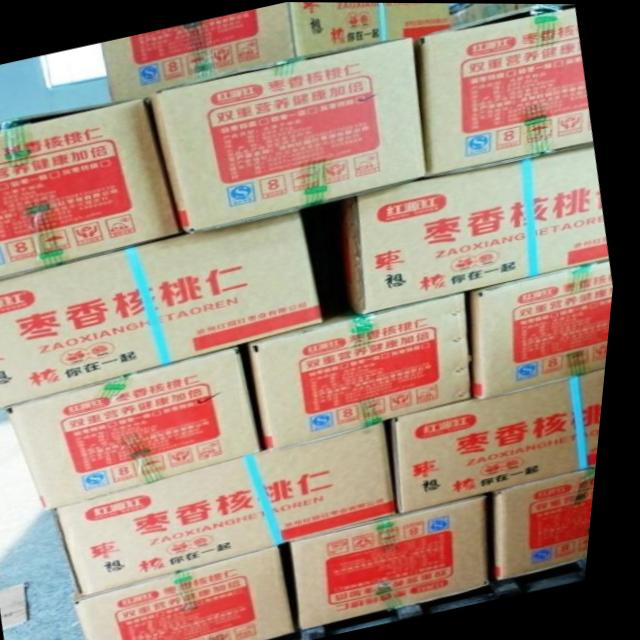box: (0, 210, 329, 411), (60, 420, 405, 596), (145, 36, 429, 235), (329, 146, 612, 315), (16, 346, 269, 511), (100, 2, 453, 103), (255, 291, 481, 448), (0, 97, 186, 279), (393, 365, 613, 514), (418, 3, 595, 175), (302, 493, 506, 631), (87, 544, 308, 640), (473, 258, 618, 399), (504, 466, 605, 583)
